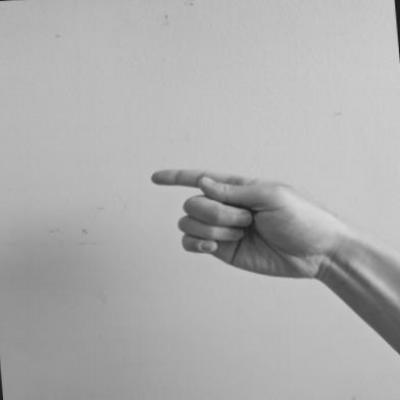hand: (145, 154, 342, 295)
